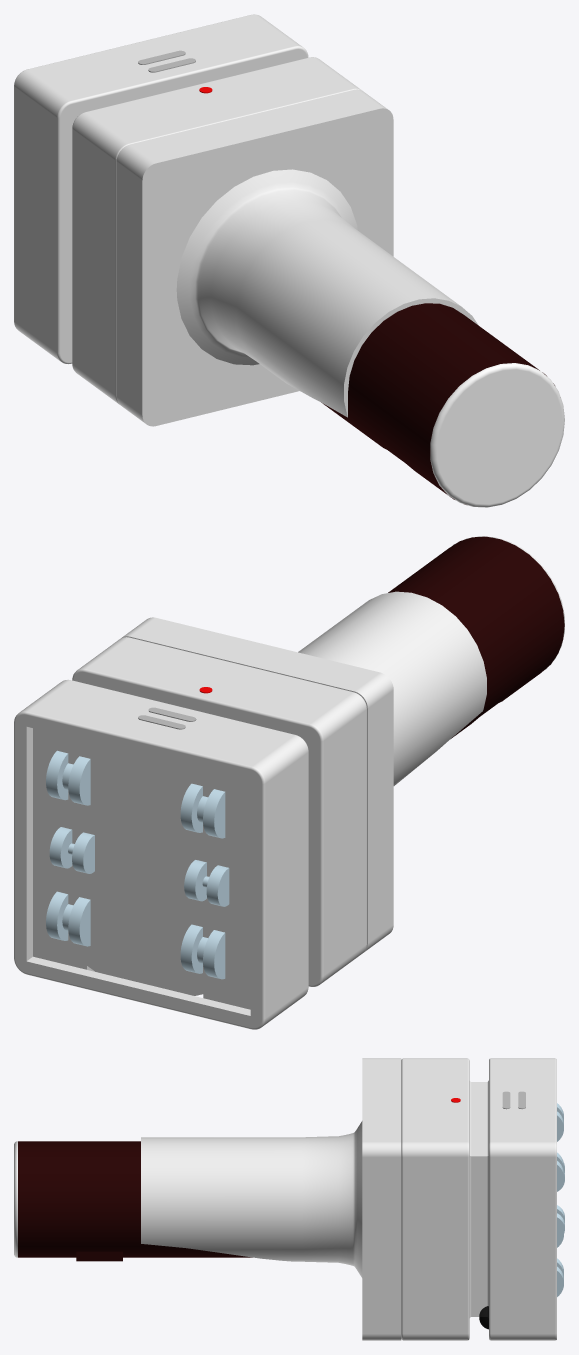
Rendered from robot_patrol.glb.
3 views of the same model, one above another, from view 1: azimuth 30°, elevation 25°; view 2: azimuth 150°, elevation 25°; view 3: azimuth 270°, elevation 25° (orthographic). The views are drawn at different scales.
Parts seen in each view (by area): view 1: Base, Body, Cylinder, Top hat; view 2: Body, Base, Cylinder, Castor wheel (×4), Driver wheel (×2); view 3: Body, Base, Cylinder, Top hat.
Part boxes in pixels (box(x1,y1,x2,y2)): Base: box(116, 89, 478, 426); Body: box(14, 14, 362, 404); Cylinder: box(321, 303, 554, 504); Top hat: box(430, 363, 564, 507); Body: box(14, 637, 366, 1029); Base: box(122, 591, 486, 952); Cylinder: box(388, 536, 564, 738); Castor wheel (×4): box(46, 750, 225, 979); Driver wheel (×2): box(49, 827, 229, 906); Body: box(401, 1058, 556, 1340); Base: box(141, 1058, 401, 1340); Cylinder: box(18, 1141, 252, 1261); Top hat: box(14, 1141, 17, 1257).
Size of the model in its own units: 0.56 by 0.5625 by 1.42.
